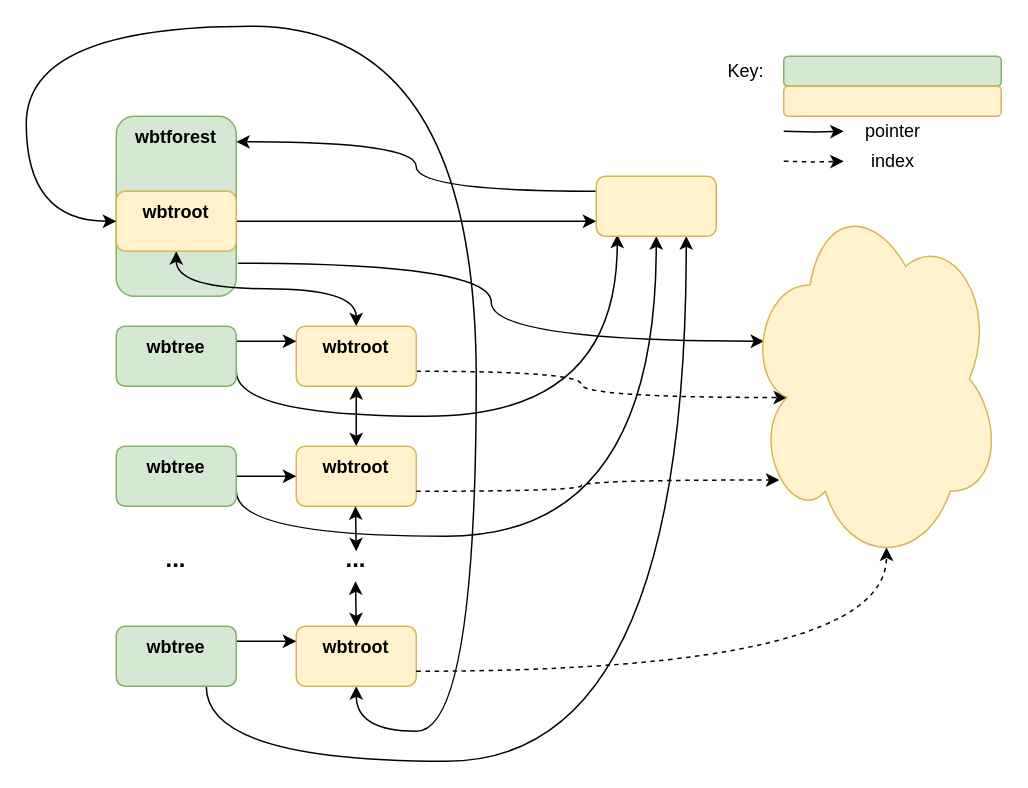
Some shapes in this 1028 by 788 pixel diagram are drawn without their labels. Here are the shapes that lost their labels. From the top down, the centre of each, then its label:
At (x=891, y=70): "Library API public record".
At (x=891, y=100): "Library private record".
At (x=655, y=205): "wbttrail".
At (x=873, y=378): "other private wbtforest data".
